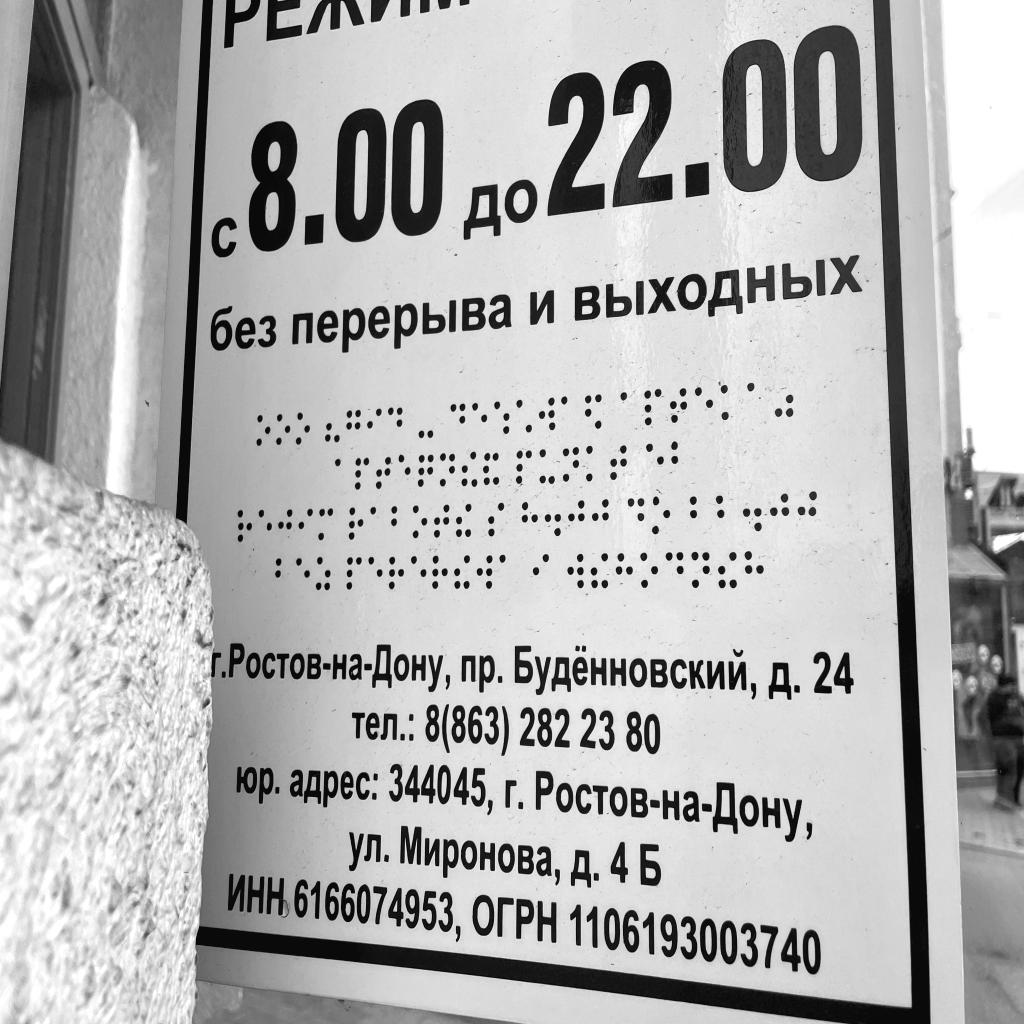_n: (691, 551, 711, 589), (562, 446, 580, 484), (440, 452, 456, 488)
_y: (539, 448, 556, 485)
a: (746, 382, 767, 421), (620, 391, 638, 428), (561, 395, 579, 430), (499, 554, 517, 589), (370, 505, 386, 539), (335, 459, 350, 492)
b: (391, 506, 407, 540), (275, 558, 290, 590)
ch: (417, 453, 434, 489)
d: (665, 551, 685, 588), (627, 497, 645, 536), (449, 402, 466, 439), (387, 406, 403, 441)
defis: (418, 407, 434, 440)
e: (694, 386, 715, 423), (471, 400, 488, 438), (411, 555, 427, 590), (258, 509, 273, 544), (398, 454, 412, 491), (368, 556, 383, 590), (296, 556, 311, 589)
g: (346, 409, 362, 444)
gh: (278, 509, 293, 543)
i: (533, 552, 550, 591), (366, 407, 382, 443), (299, 508, 313, 542)
iKratkoe: (484, 451, 501, 486)
ii: (717, 552, 738, 590), (591, 552, 609, 589), (461, 451, 478, 488), (455, 503, 472, 539), (454, 554, 471, 590)
k: (720, 383, 740, 423), (586, 444, 605, 484)
kavichki1: (325, 410, 340, 443)
kavichki2: (774, 378, 795, 418)
m: (319, 506, 333, 540)
o: (651, 494, 671, 535), (640, 552, 659, 589), (412, 505, 428, 539), (256, 413, 271, 448), (296, 411, 310, 446), (276, 413, 290, 446)
p: (644, 388, 662, 428), (516, 449, 532, 485), (347, 557, 362, 591), (355, 458, 370, 491)
r: (389, 556, 406, 590), (432, 555, 448, 590), (237, 509, 252, 543), (349, 506, 364, 540)
s: (488, 501, 505, 538)
sh: (493, 400, 510, 438)
t: (609, 444, 628, 482), (670, 386, 688, 425), (433, 504, 450, 540), (376, 456, 391, 490)
tochka: (742, 492, 763, 533), (544, 499, 561, 537)
v: (537, 397, 556, 433), (567, 553, 585, 590), (477, 554, 494, 589)
x: (744, 551, 765, 590), (615, 553, 633, 590)
ya: (584, 393, 603, 431)
yo: (516, 397, 533, 435)
z: (316, 557, 330, 591)
